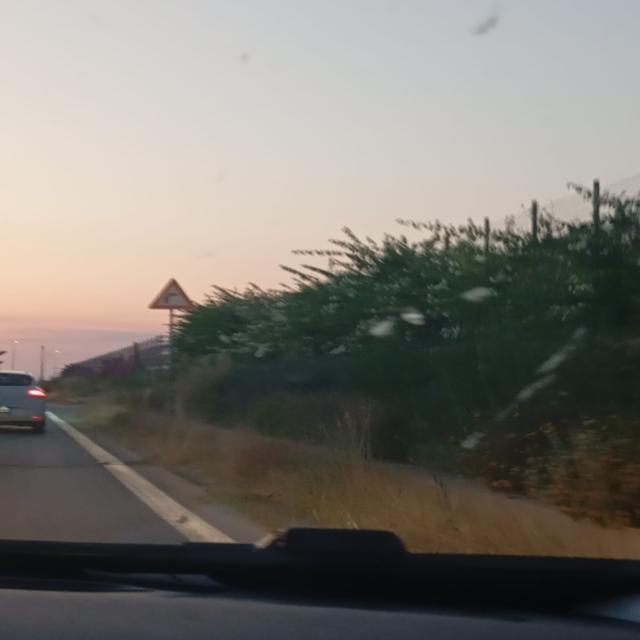warn_right_curve: (147, 276, 198, 311)
